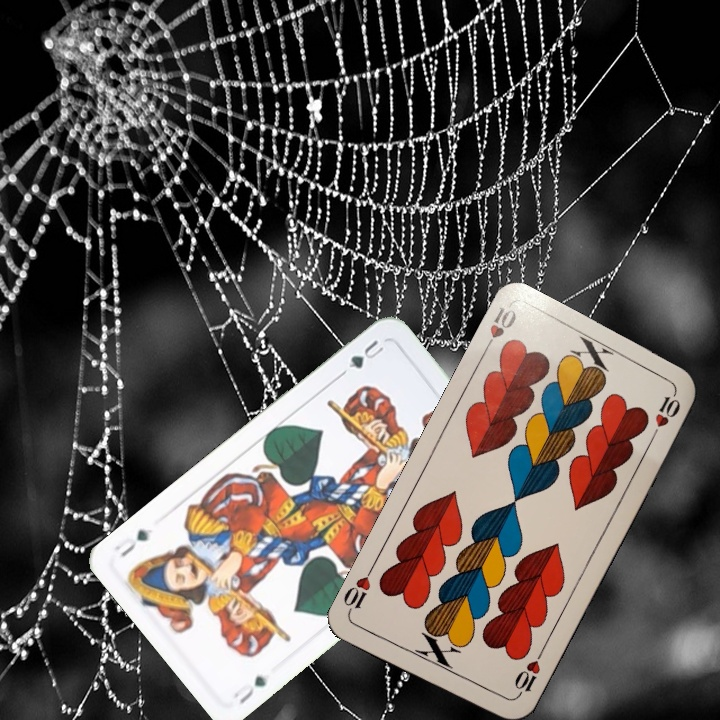GU: (337, 335, 387, 378), (229, 671, 270, 708)
H10: (478, 303, 519, 357), (510, 647, 545, 702)
